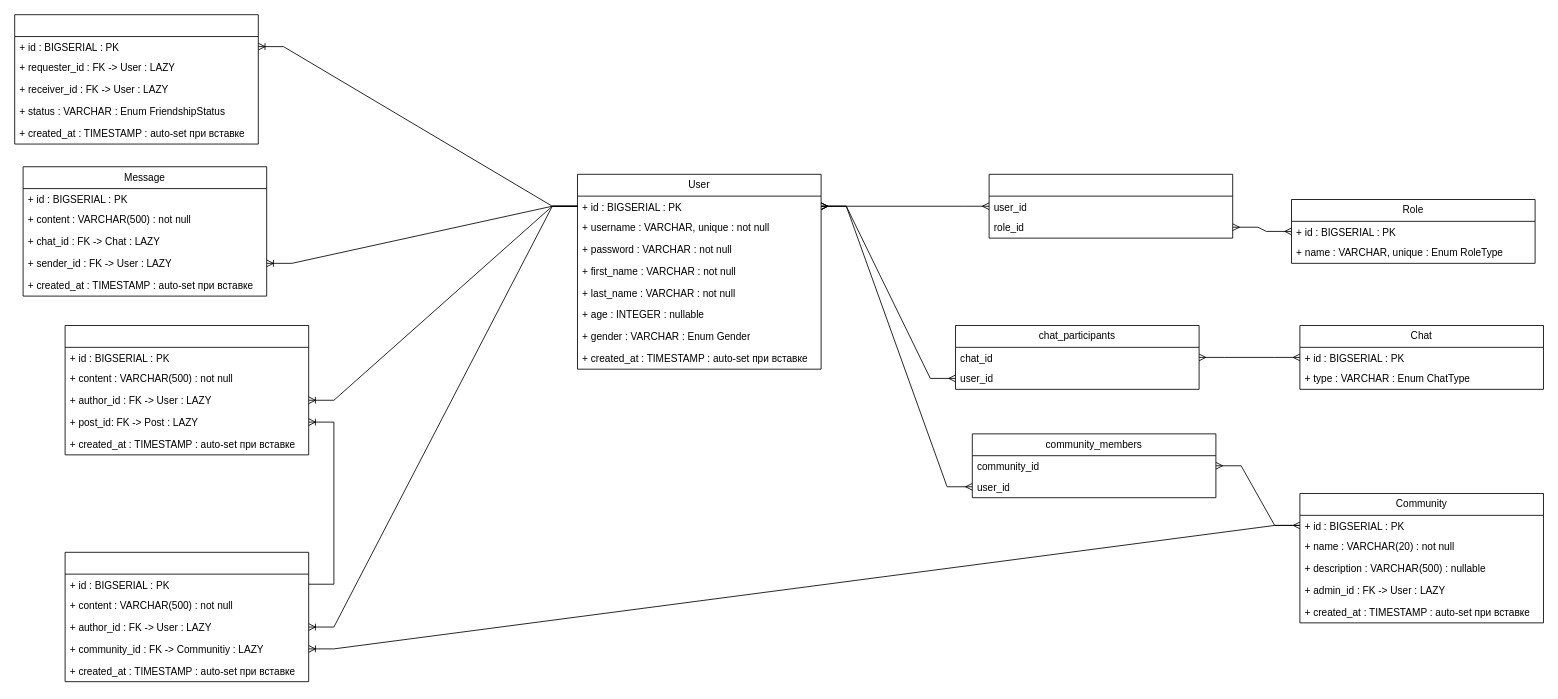
This 1558x699 diagram has some shape labels left out. Each missing label, with the box of its shape:
Comment: (64, 325, 309, 455)
Frienship: (14, 14, 258, 144)
Post: (64, 551, 309, 682)
user_roles: (988, 173, 1233, 238)
